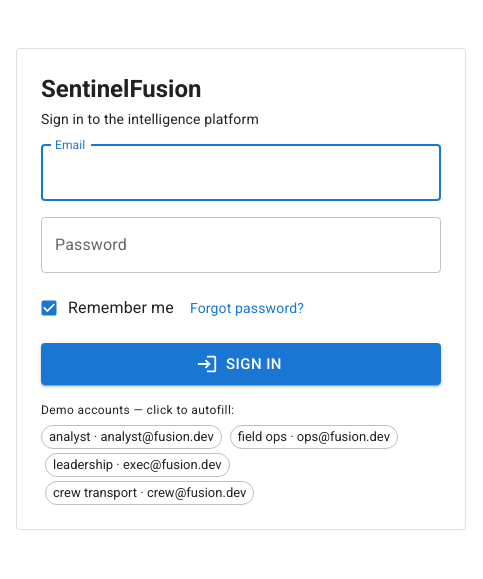
Scenario: LoginPage › shows an error message when login fails
Type "analyst@fusion.dev" into the field labelled "Email" at (241, 173), box [41,145,441,201]
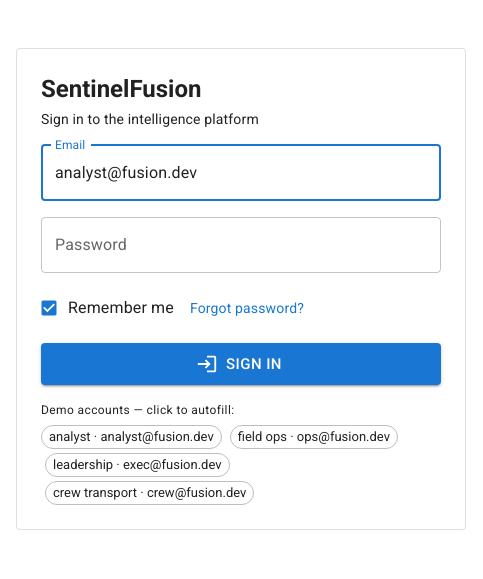
Type "wrongpass" into the password field labelled "Password" at (241, 245), box [41,217,441,273]
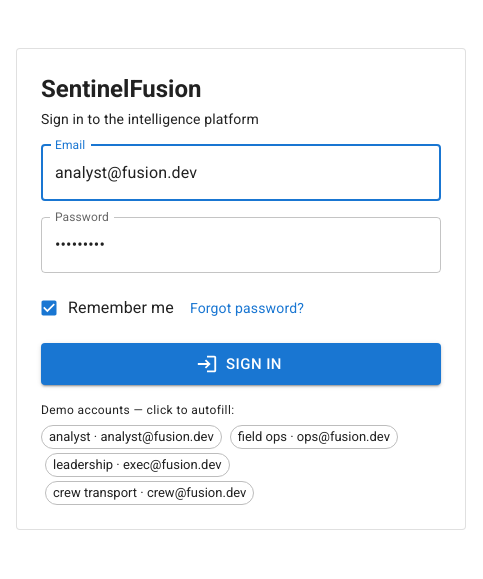
Click the button "Sign in" at (241, 364), box [41,343,441,385]
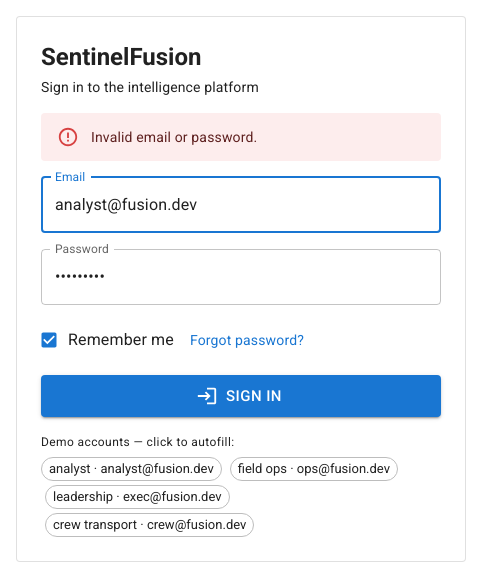
Expected: the message with test id "login-error" reads "Invalid email or password.", [91,129,257,145]
